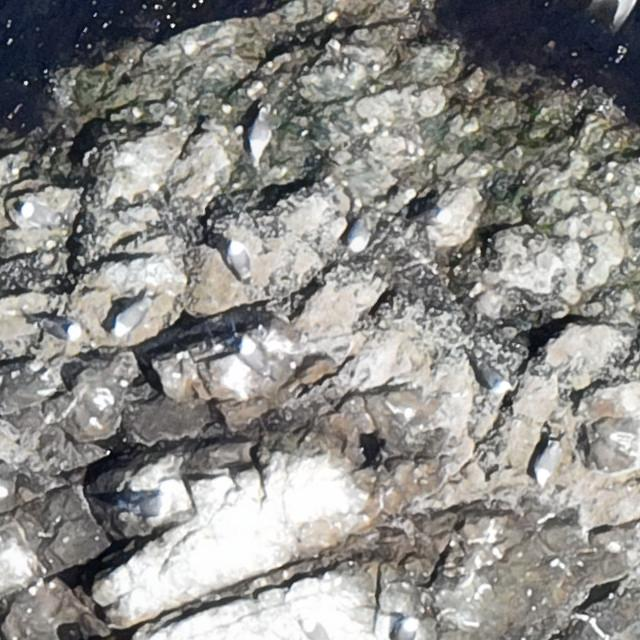umineko: (468, 349, 511, 396), (114, 294, 154, 336), (239, 333, 276, 377), (533, 438, 560, 489), (122, 492, 174, 516), (20, 202, 63, 231), (250, 109, 274, 160), (347, 211, 371, 252), (44, 321, 78, 340), (229, 245, 248, 276), (398, 618, 414, 640)
